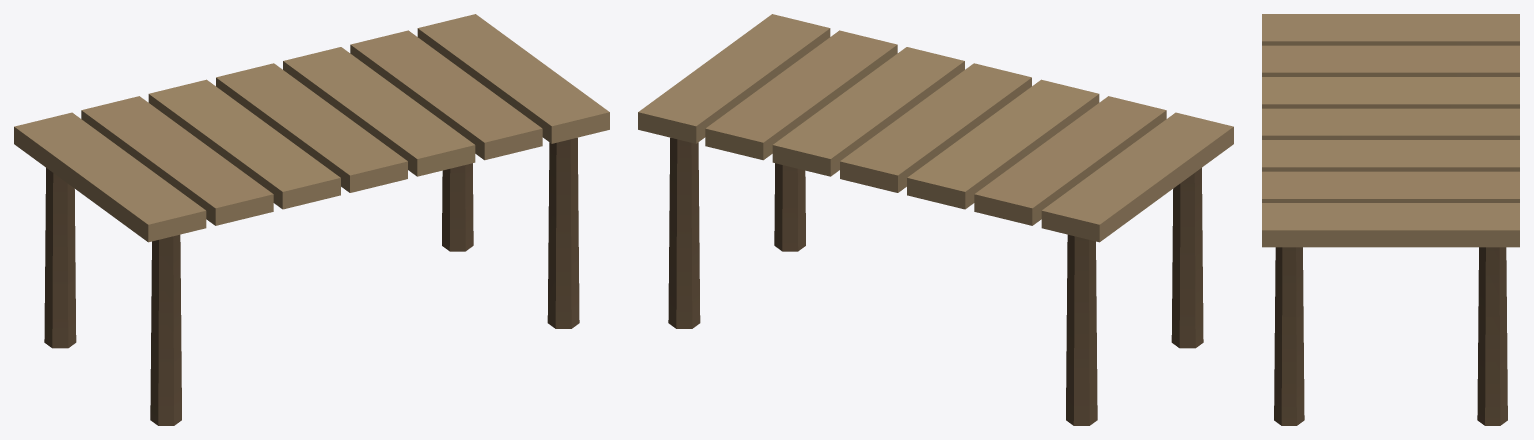
File: supply_rack.glb
The picture shows the model from 3 angles, left to right: view 1: azimuth 30°, elevation 25°; view 2: azimuth 150°, elevation 25°; view 3: azimuth 270°, elevation 25°; orthographic projection. The views are drawn at different scales.
Parts seen in each view (by area): view 1: supply_rack; view 2: supply_rack; view 3: supply_rack.
Boxes of the visible parts, bbox=[...] form: supply_rack: bbox=[14, 14, 609, 425]; supply_rack: bbox=[638, 14, 1233, 425]; supply_rack: bbox=[1262, 14, 1519, 425].
Size of the model in its own units: 1.51 by 0.6675 by 0.76.
